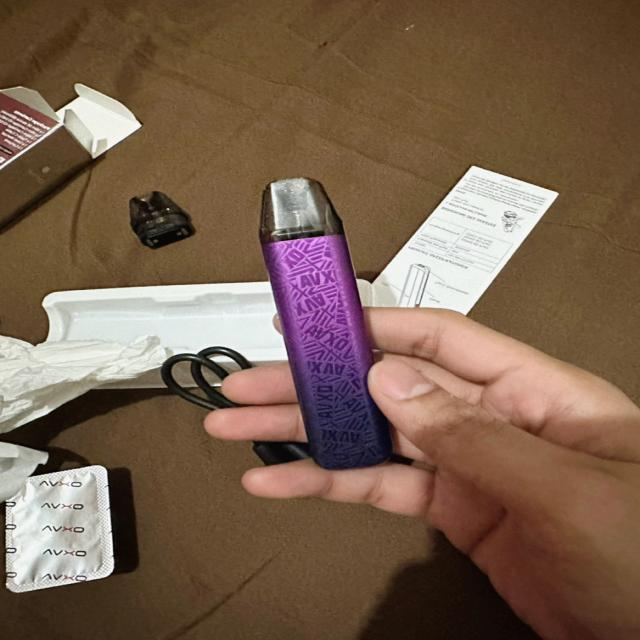Hazard: (258, 175, 392, 473)
